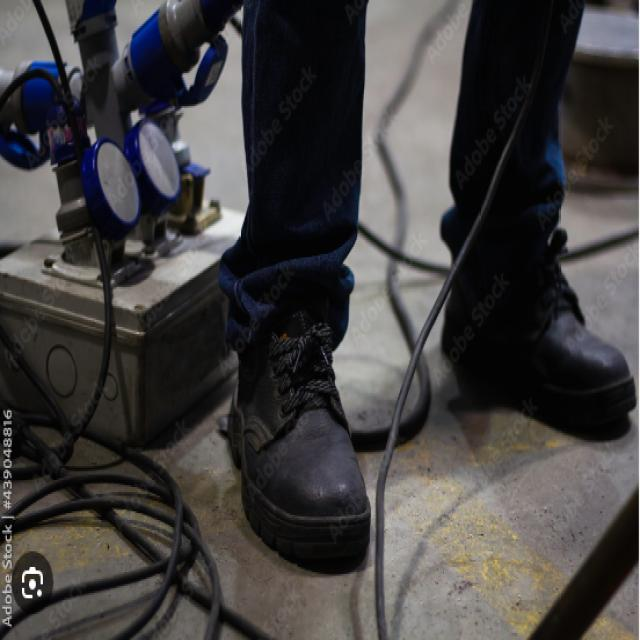shoes: (225, 203, 640, 574)
